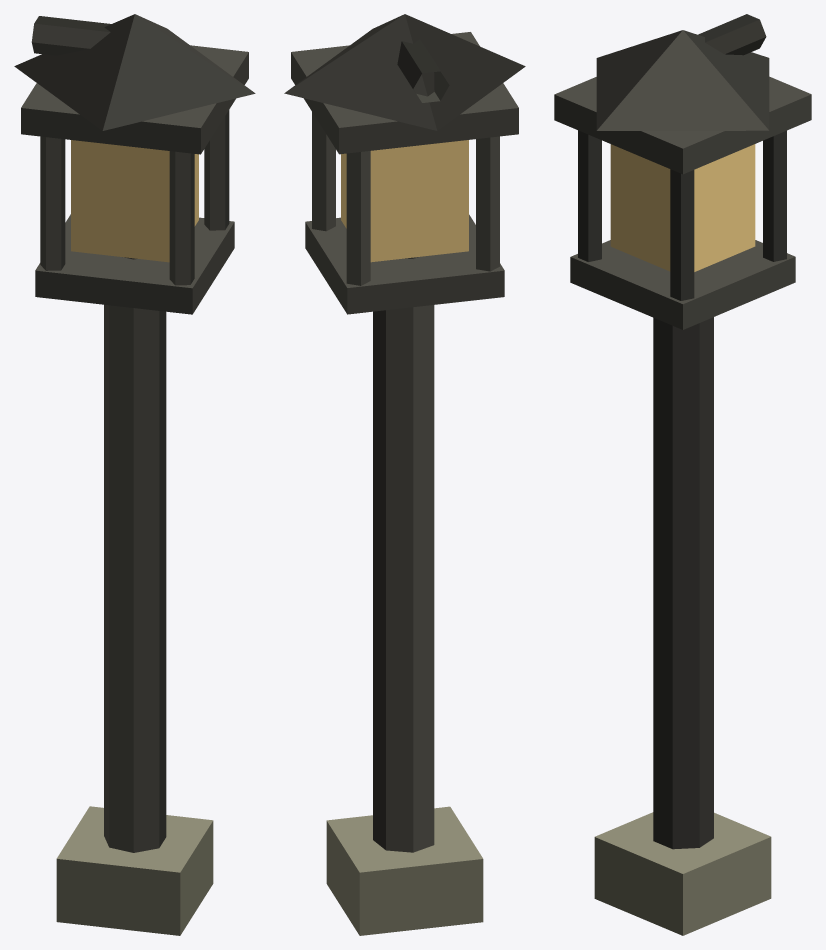
The picture shows the model from 3 angles, left to right: view 1: azimuth 30°, elevation 25°; view 2: azimuth 150°, elevation 25°; view 3: azimuth 270°, elevation 25°; orthographic projection. The views are drawn at different scales.
Visible parts, largest first — view 1: fc475c413f86178509e95ac9b9c49ec79b769e318a7632e13fc64a5093f9; view 2: fc475c413f86178509e95ac9b9c49ec79b769e318a7632e13fc64a5093f9; view 3: fc475c413f86178509e95ac9b9c49ec79b769e318a7632e13fc64a5093f9.
Boxes of the visible parts, left/top/right/bottom form: fc475c413f86178509e95ac9b9c49ec79b769e318a7632e13fc64a5093f9: left=14, top=14, right=255, bottom=935; fc475c413f86178509e95ac9b9c49ec79b769e318a7632e13fc64a5093f9: left=284, top=14, right=525, bottom=935; fc475c413f86178509e95ac9b9c49ec79b769e318a7632e13fc64a5093f9: left=554, top=14, right=811, bottom=935.
Bounding box in the file's own units: 0.9051 × 3.37 × 0.9051.
Materials: 2 (1 with a texture image).
